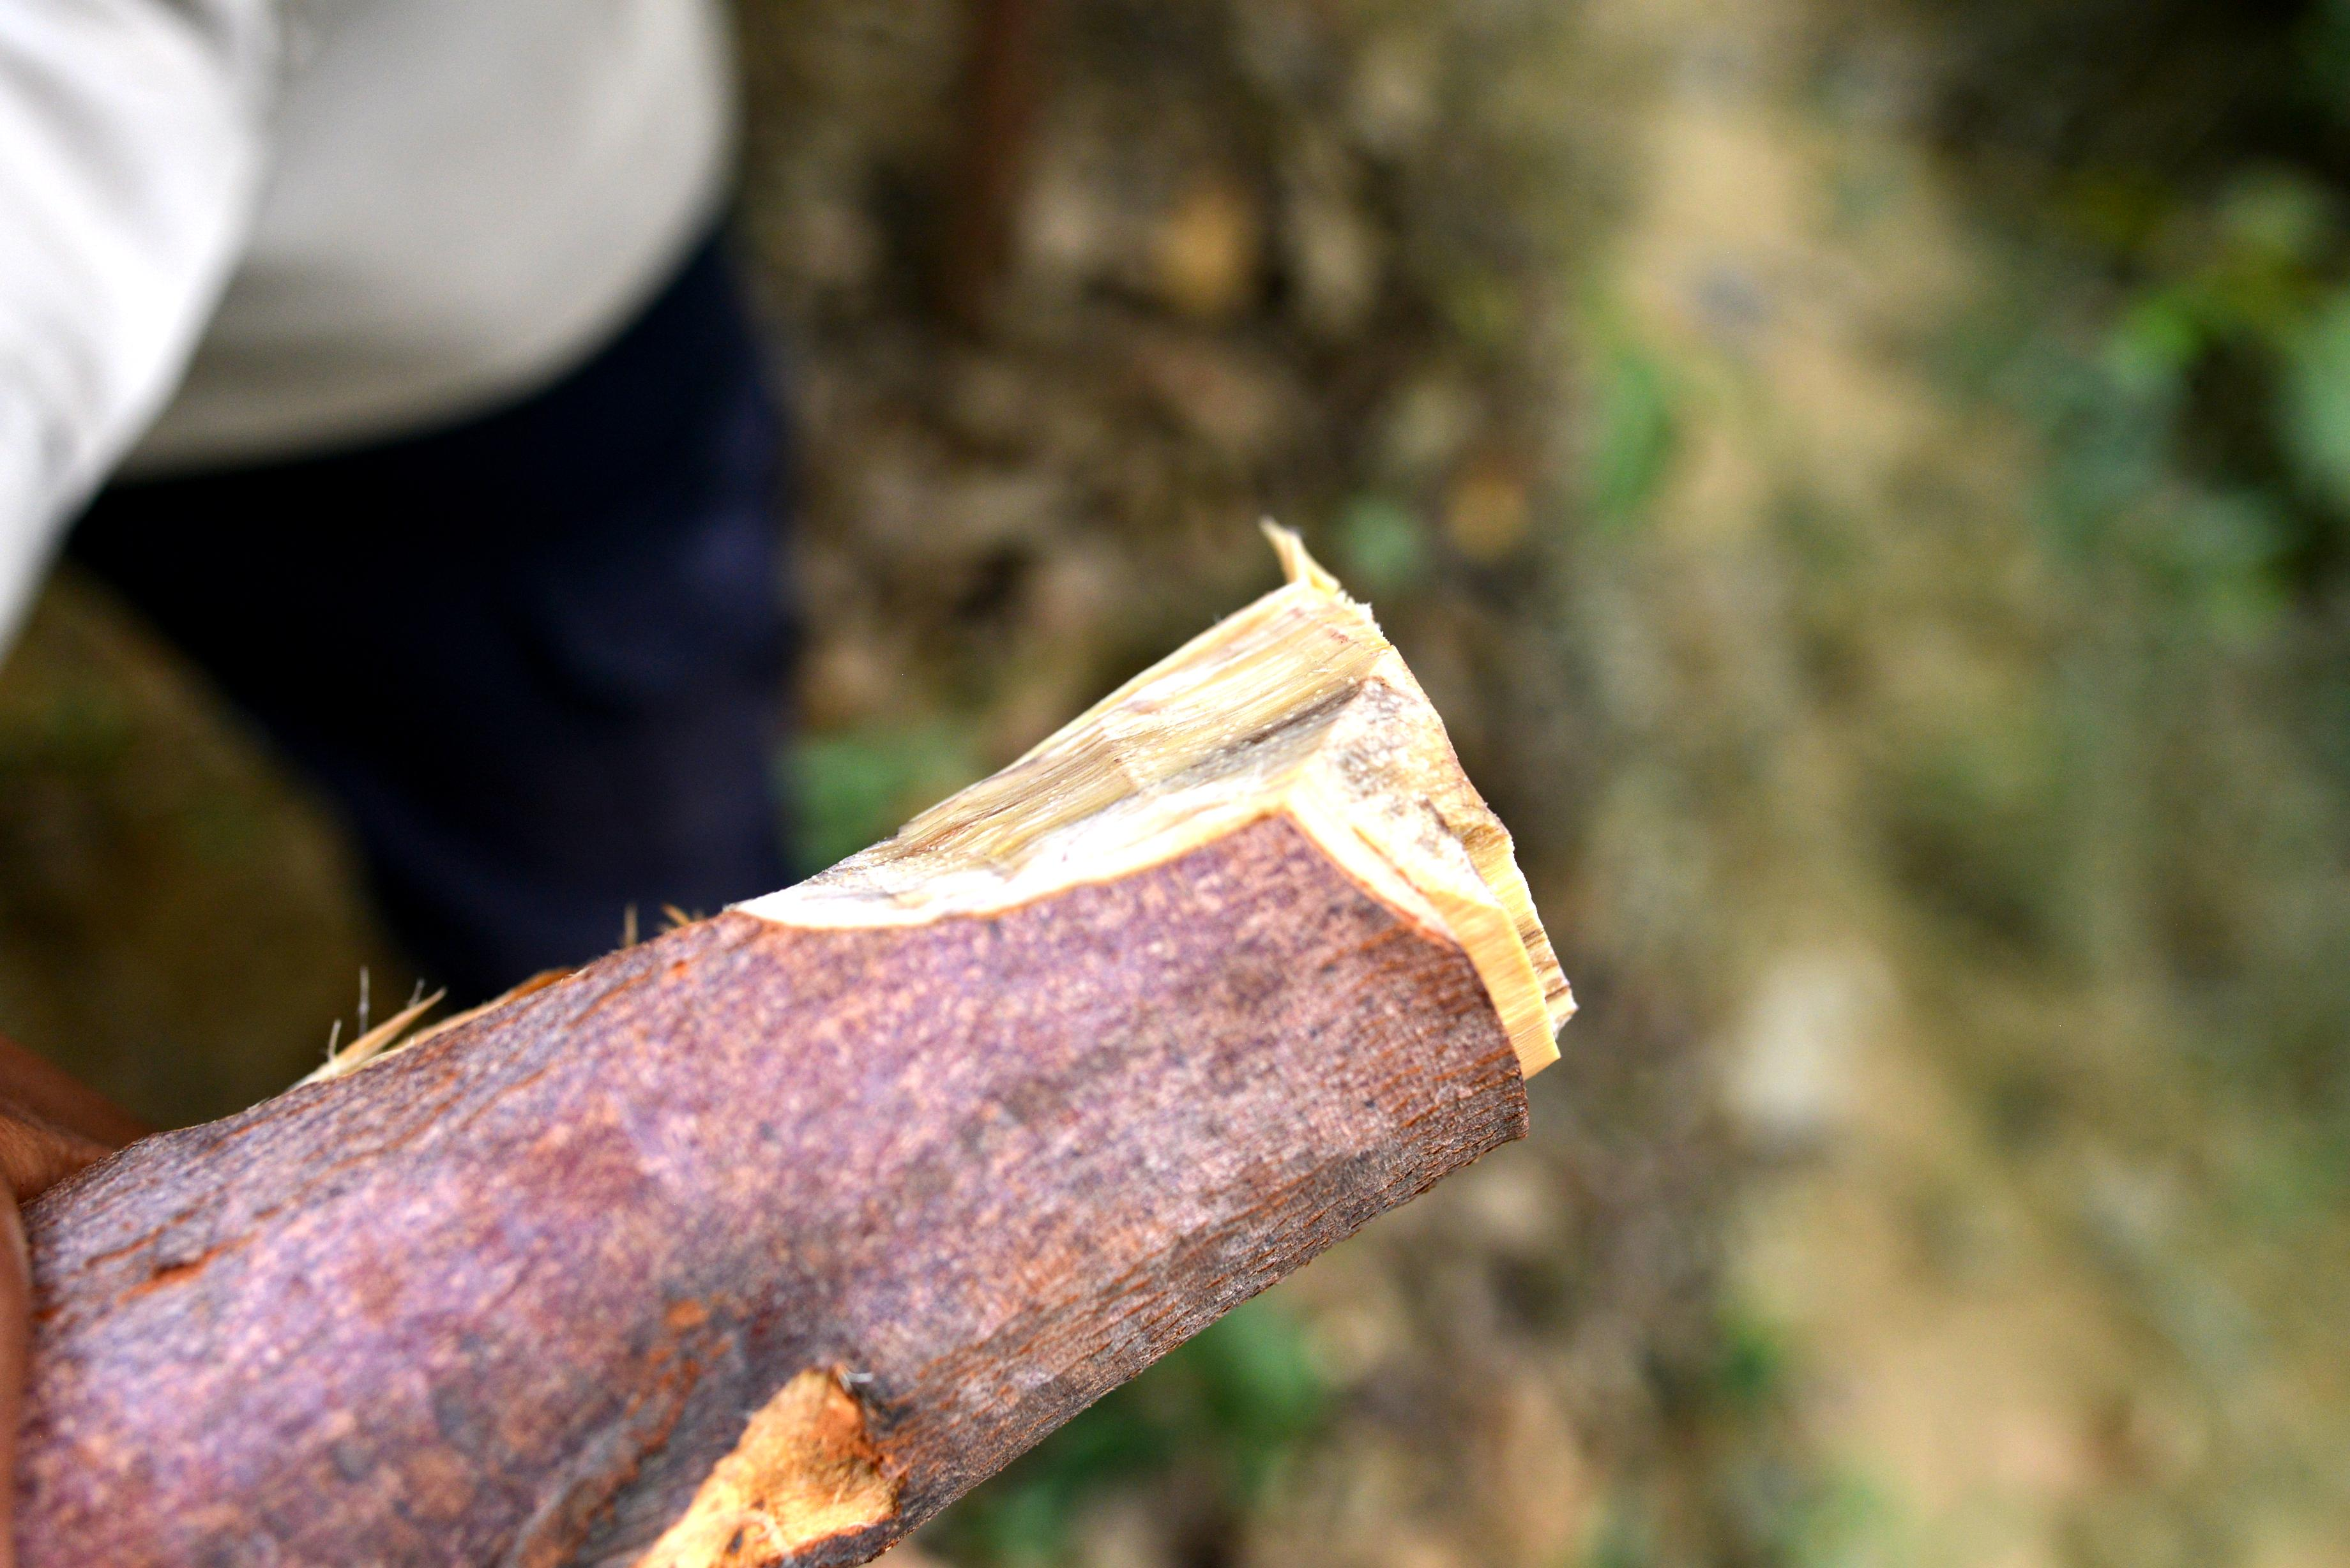Ralstonia: (1199, 623, 1524, 945)
